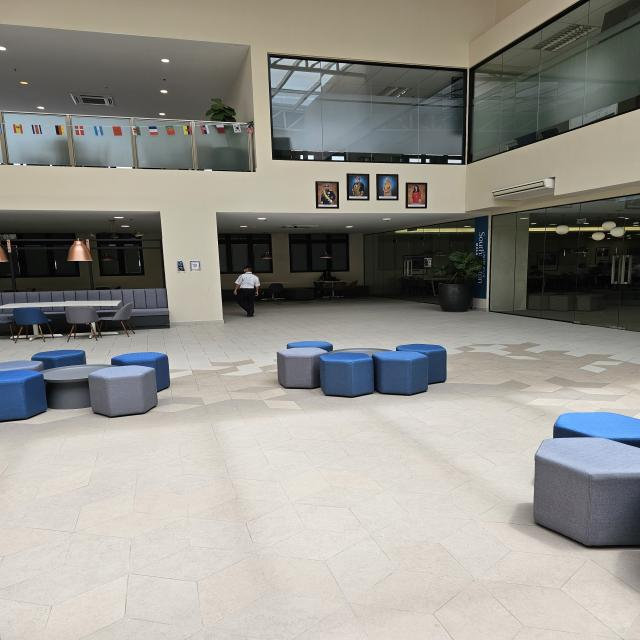footpath: (2, 416, 512, 638)
obstacle: (529, 409, 640, 546), (0, 345, 190, 419), (278, 337, 445, 398)
person: (230, 264, 266, 318)
